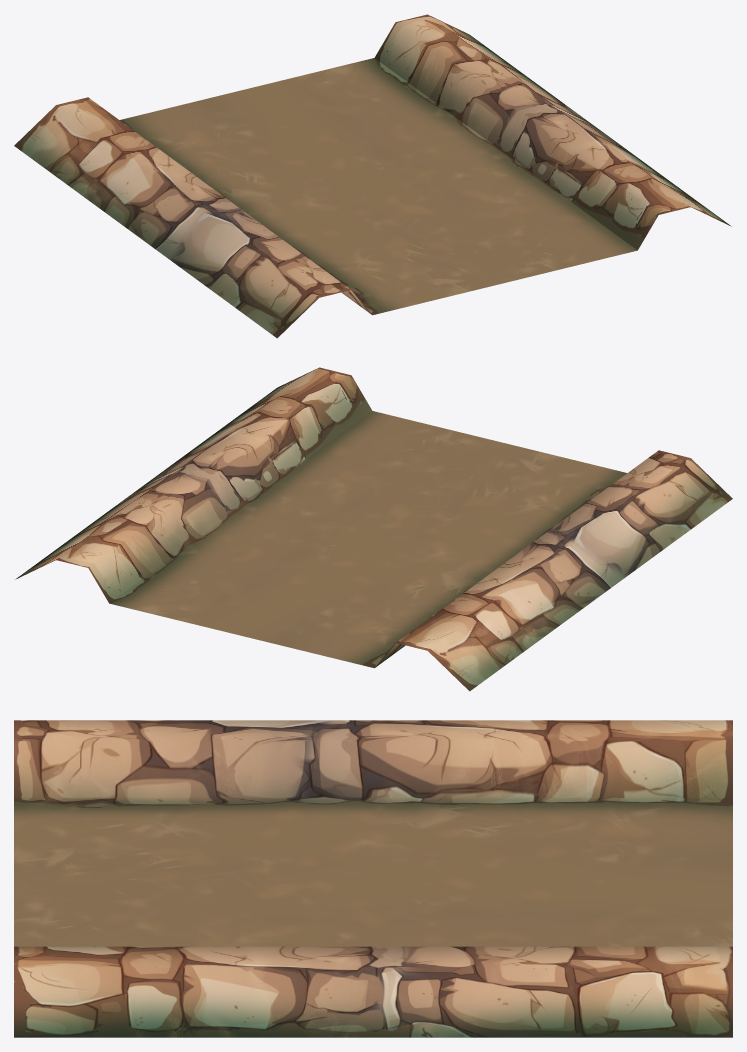
File: m_StreetTile_straight_vertical.fbx
3 renders of one model, top to bottom at view 1: azimuth 30°, elevation 25°; view 2: azimuth 150°, elevation 25°; view 3: azimuth 270°, elevation 25°, orthographic. The views are drawn at different scales.
Parts seen in each view (by area): view 1: straight_vertical.001; view 2: straight_vertical.001; view 3: straight_vertical.001.
Part boxes in pixels (box(x1,y1,x2,y2)): straight_vertical.001: box(14, 14, 731, 338); straight_vertical.001: box(15, 367, 732, 691); straight_vertical.001: box(14, 720, 732, 1037).
Size of the model in its own units: 800 by 51.12 by 800.
